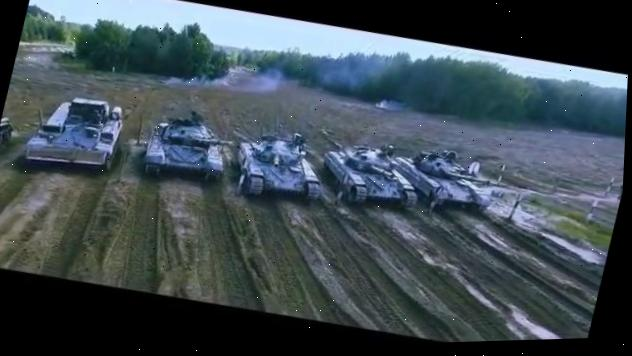tank: (15, 80, 132, 184), (381, 139, 501, 222), (312, 137, 425, 216), (140, 106, 239, 190), (228, 127, 330, 206)
